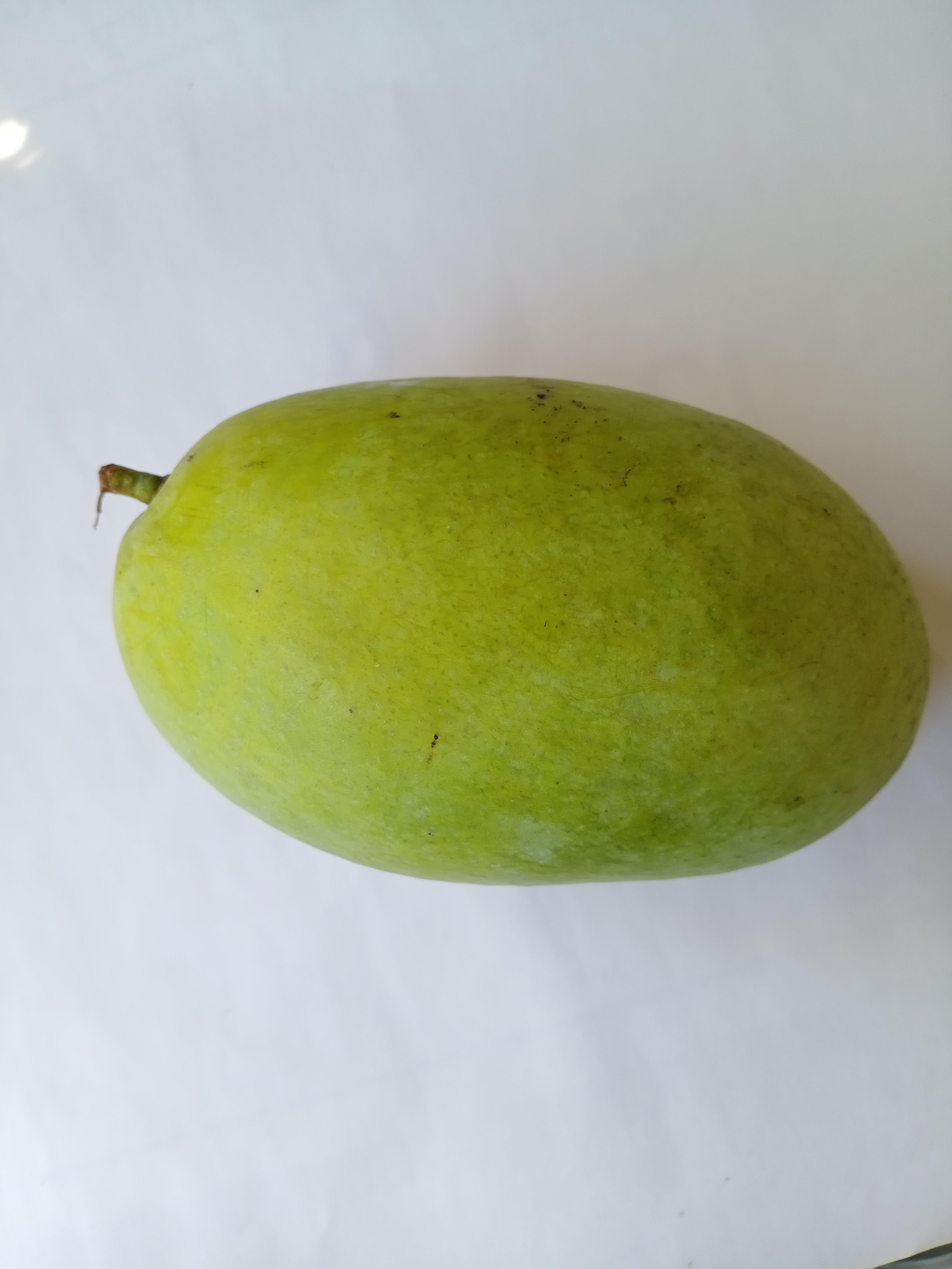Mango Unripe: (58, 358, 952, 931)
